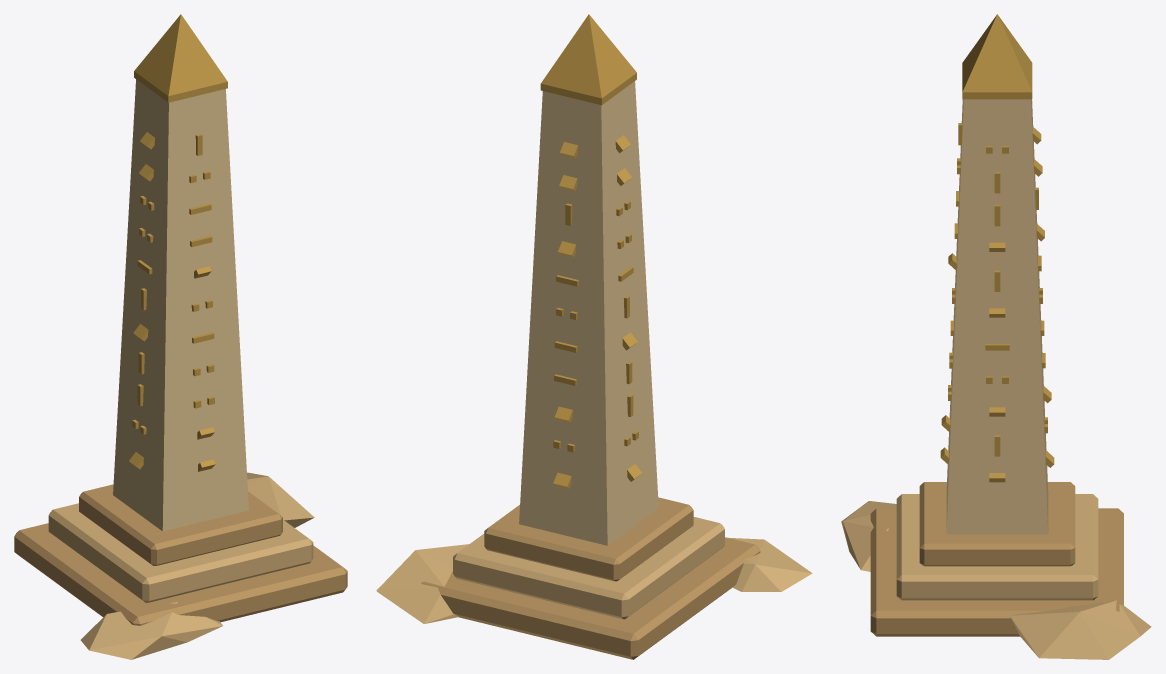
File: Desert_Obelisk.fbx
The picture shows the model from 3 angles, left to right: view 1: azimuth 30°, elevation 25°; view 2: azimuth 150°, elevation 25°; view 3: azimuth 270°, elevation 25°; orthographic projection. The views are drawn at different scales.
Parts seen in each view (by area): view 1: Shaft, Base, Base2, Gold, Sand; view 2: Shaft, Base, Base2, Gold, Sand; view 3: Shaft, Base, Base2, Gold, Sand.
Part boxes in pixels (x1,y1,x2,y2): Shaft: [113, 79, 248, 531]; Base: [14, 484, 347, 625]; Base2: [48, 503, 313, 602]; Gold: [129, 14, 227, 471]; Sand: [80, 472, 314, 659]; Shaft: [519, 81, 658, 545]; Base: [421, 497, 760, 659]; Base2: [453, 517, 724, 619]; Gold: [540, 14, 642, 488]; Sand: [376, 537, 812, 623]; Shaft: [946, 99, 1048, 534]; Base: [870, 482, 1123, 636]; Base2: [896, 494, 1098, 600]; Gold: [940, 14, 1054, 482]; Sand: [841, 501, 1151, 659].
Bounding box in the file's own units: 6.32 × 10.95 × 5.39.
